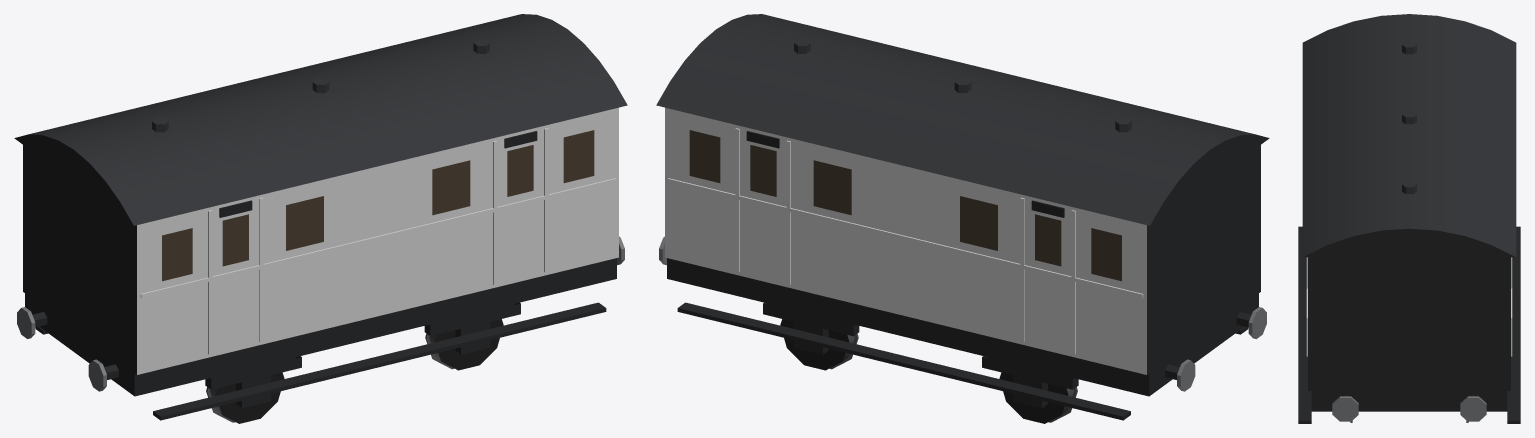
File: train_carriage.glb
3 renders of one model, left to right at view 1: azimuth 30°, elevation 25°; view 2: azimuth 150°, elevation 25°; view 3: azimuth 270°, elevation 25°, orthographic. The views are drawn at different scales.
Parts seen in each view (by area): view 1: train_carriage_lod0; view 2: train_carriage_lod0; view 3: train_carriage_lod0.
Part boxes in pixels (left/top/right/bottom): train_carriage_lod0: left=14, top=14, right=627, bottom=423; train_carriage_lod0: left=656, top=14, right=1269, bottom=423; train_carriage_lod0: left=1298, top=14, right=1520, bottom=423.
Size of what is drawn, in the model's own units: 7.14 by 3.76 by 2.96.
